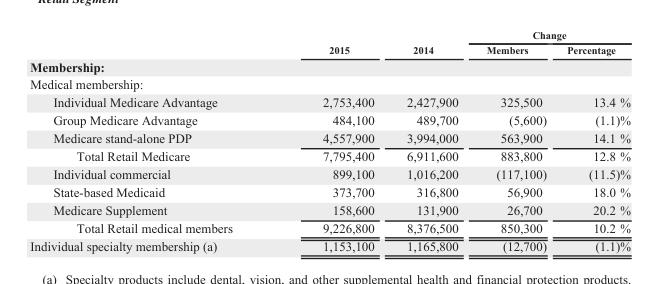table: (29, 28, 630, 253)
table column: (29, 28, 276, 253), (276, 28, 389, 253), (471, 28, 556, 253), (389, 28, 471, 253), (556, 28, 630, 253)
table column header: (29, 28, 630, 57)
table projected row header: (29, 74, 630, 92), (29, 57, 630, 74)
table row: (29, 74, 630, 92), (29, 92, 630, 110), (29, 110, 630, 128), (29, 128, 630, 146), (29, 146, 630, 164), (29, 164, 630, 182), (29, 182, 630, 200), (29, 200, 630, 218), (29, 218, 630, 236), (29, 57, 630, 74), (29, 236, 630, 253), (29, 42, 630, 57), (29, 28, 630, 42)
table spanning cell: (276, 28, 389, 57), (389, 28, 471, 57), (471, 28, 630, 42)
